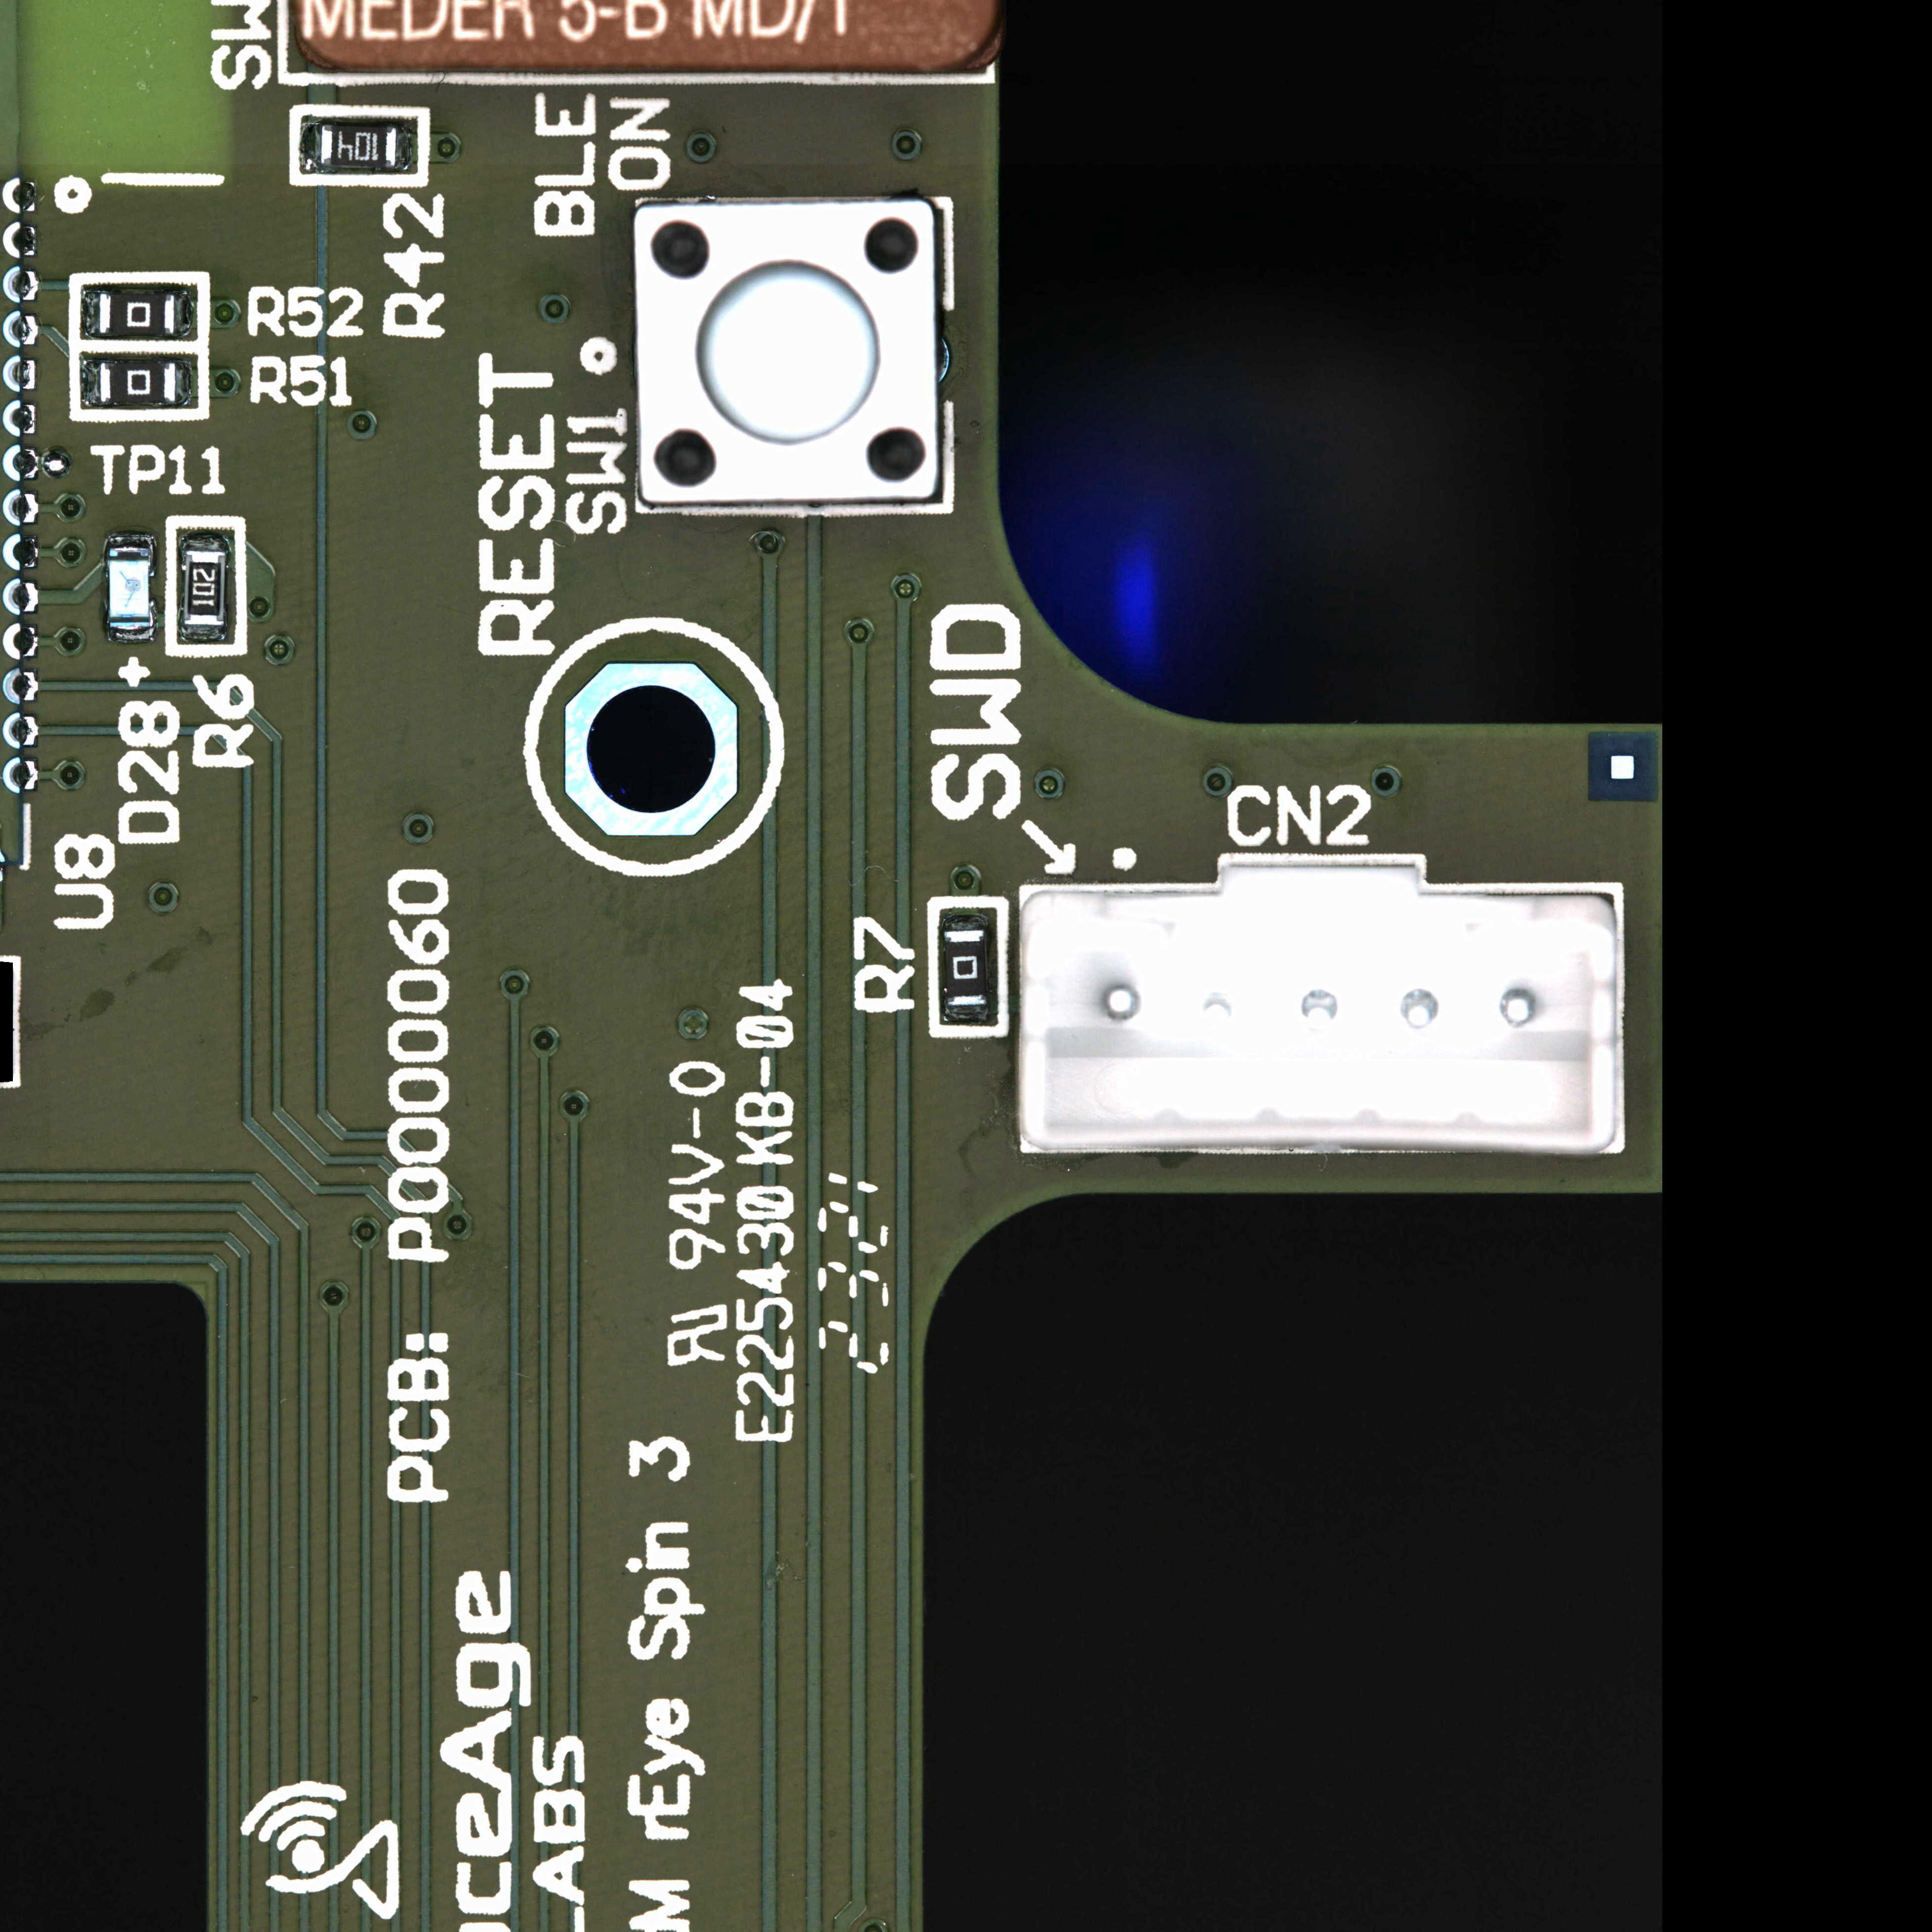Package: (99, 359, 175, 405), (99, 290, 175, 334), (320, 124, 396, 168), (110, 547, 150, 628), (945, 931, 987, 1005), (186, 550, 223, 626)
Solder: (81, 359, 99, 407), (943, 913, 987, 931), (175, 359, 191, 407), (83, 290, 99, 338), (304, 124, 320, 172), (396, 122, 412, 170), (175, 290, 191, 336), (182, 534, 226, 550), (182, 626, 226, 642), (943, 1007, 991, 1021), (108, 534, 152, 545), (108, 632, 152, 640)
